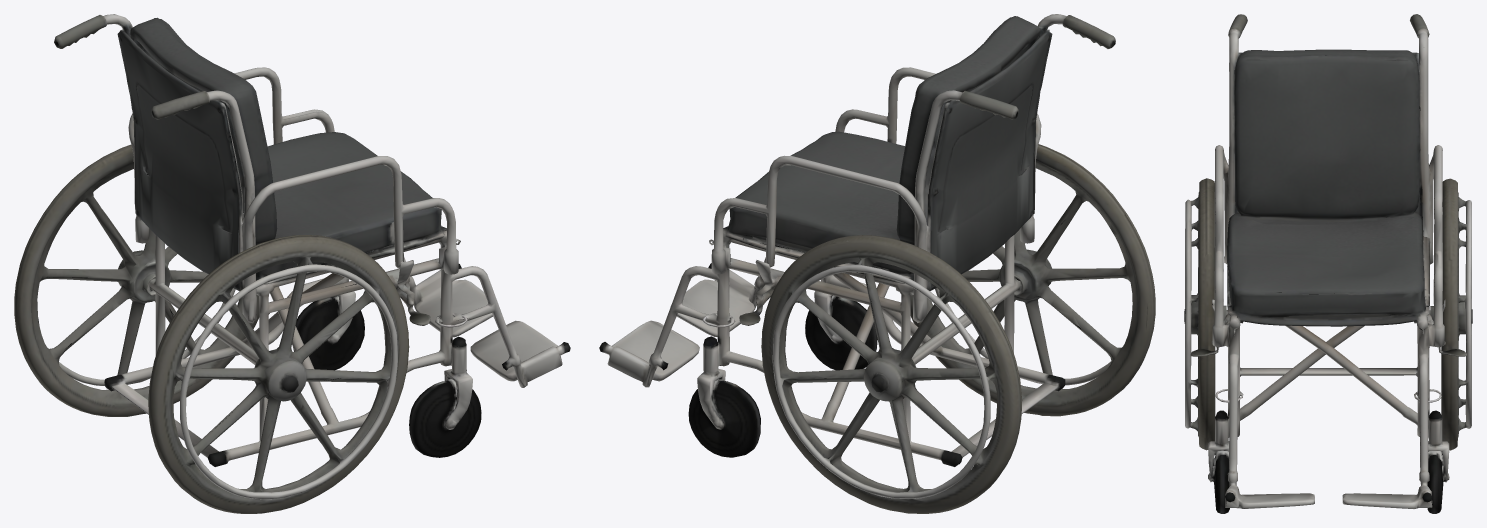
Rendered from repaired.glb.
The picture shows the model from 3 angles, left to right: view 1: azimuth 30°, elevation 25°; view 2: azimuth 150°, elevation 25°; view 3: azimuth 270°, elevation 25°; orthographic projection. The views are drawn at different scales.
Visible parts, largest first — view 1: repaired; view 2: repaired; view 3: repaired.
Boxes of the visible parts, x1=… form: repaired: x1=14, y1=14, x2=570, y2=513; repaired: x1=599, y1=14, x2=1155, y2=513; repaired: x1=1184, y1=14, x2=1472, y2=513.
Size of the model in its own units: 0.9993 by 0.9317 by 0.6351.
1 material, 1 textured.
